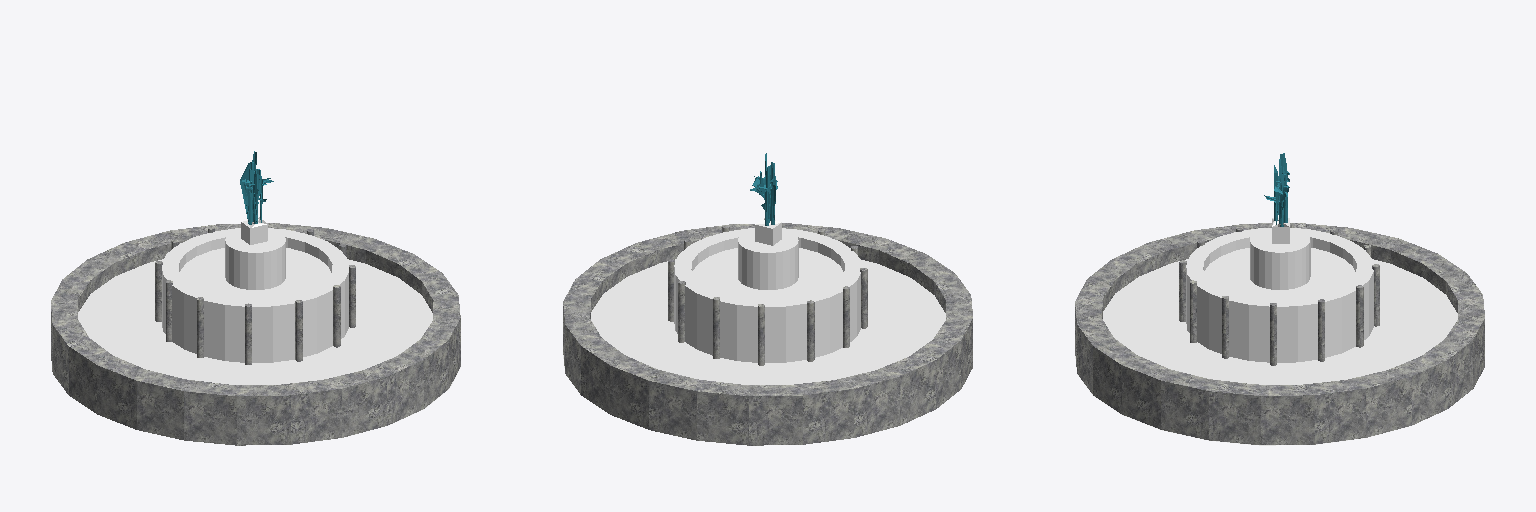
3 views of the same model, side by side, from view 1: azimuth 30°, elevation 25°; view 2: azimuth 150°, elevation 25°; view 3: azimuth 270°, elevation 25° (orthographic).
Visible parts, largest first — view 1: Mesh1 Component_2_1 Model; view 2: Mesh1 Component_2_1 Model; view 3: Mesh1 Component_2_1 Model.
Boxes of the visible parts, x1=… form: Mesh1 Component_2_1 Model: x1=51, y1=151, x2=460, y2=445; Mesh1 Component_2_1 Model: x1=563, y1=153, x2=972, y2=445; Mesh1 Component_2_1 Model: x1=1075, y1=153, x2=1484, y2=445.
Size of the model in its own units: 6.52 by 3.61 by 6.52.
3 materials, 1 textured.